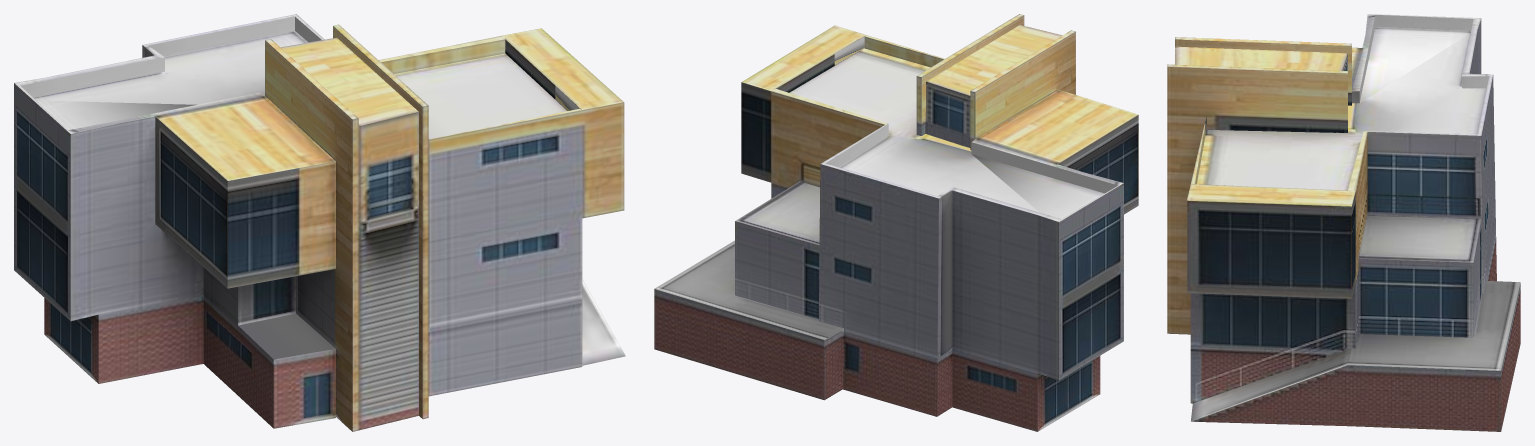
3 renders of one model, left to right at view 1: azimuth 30°, elevation 25°; view 2: azimuth 150°, elevation 25°; view 3: azimuth 270°, elevation 25°, orthographic. The views are drawn at different scales.
Visible parts, largest first — view 1: MainBuilding; view 2: MainBuilding; view 3: MainBuilding.
Boxes of the visible parts, <box> form: MainBuilding: <box>14,14,625,431</box>; MainBuilding: <box>654,14,1138,431</box>; MainBuilding: <box>1167,14,1520,431</box>.
Bounding box in the file's own units: 1.88 × 1.17 × 1.41.
1 material, 1 textured.
